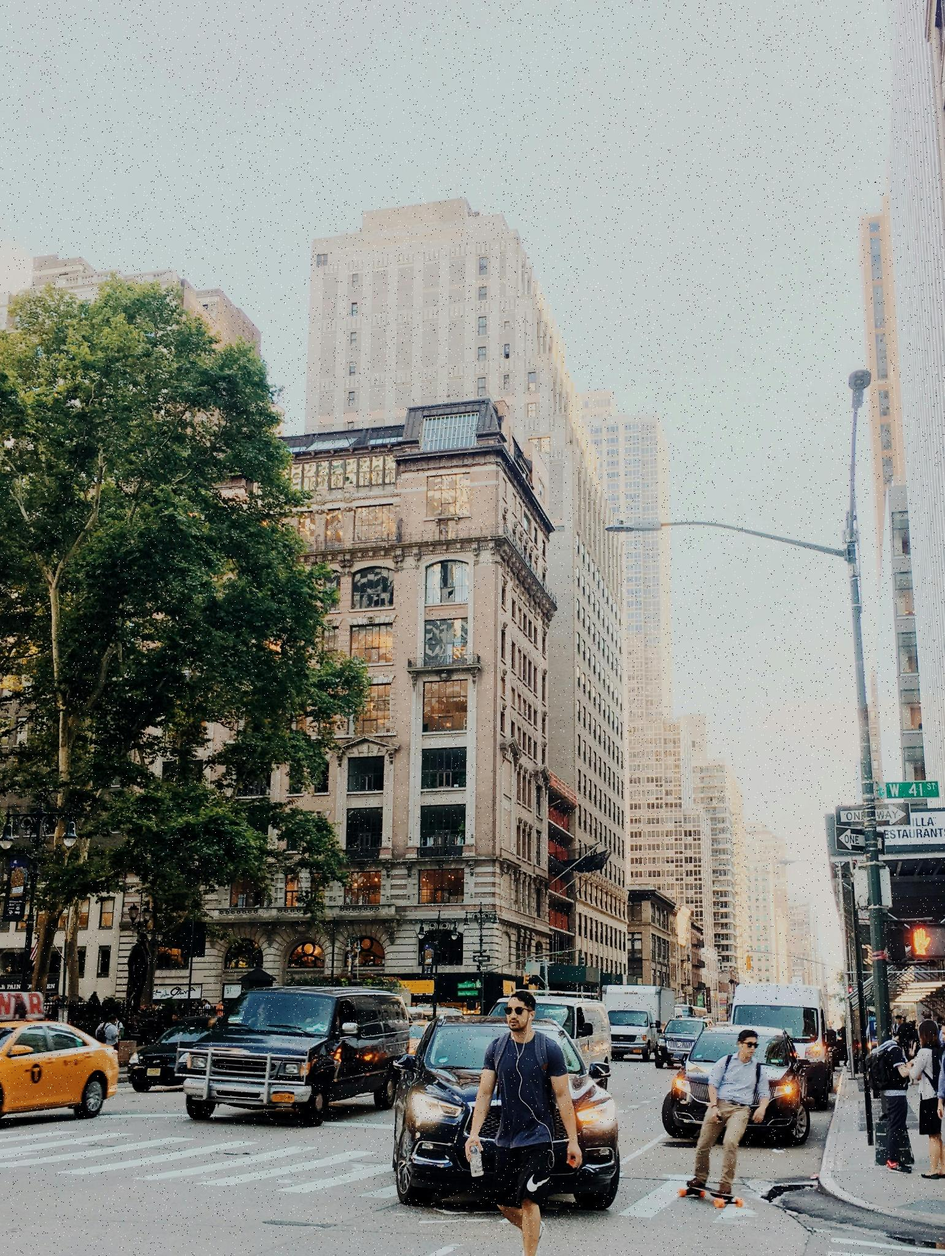car: (387, 1012, 620, 1218), (176, 994, 409, 1136), (660, 1027, 813, 1149), (0, 1024, 118, 1126), (532, 996, 612, 1082), (125, 1024, 216, 1099), (790, 1038, 834, 1109), (607, 1008, 657, 1065), (658, 1018, 708, 1065)
pedestrian: (466, 992, 585, 1256), (683, 1028, 765, 1205), (870, 1022, 915, 1174), (913, 1015, 945, 1181)
